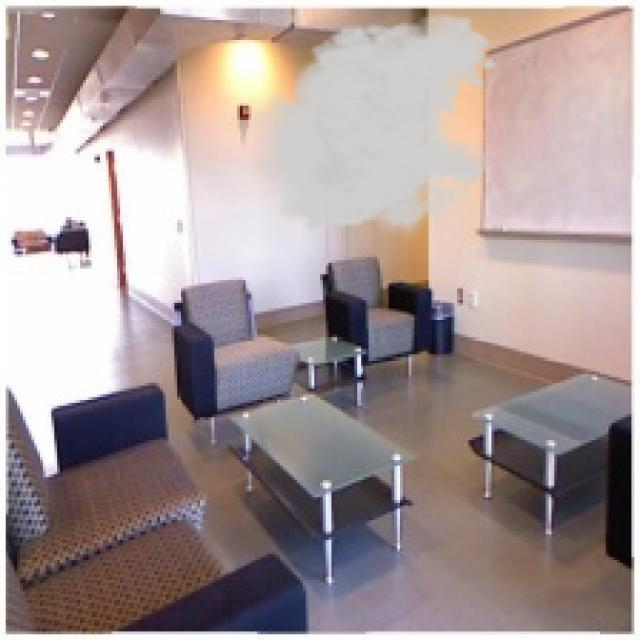Smoke: (243, 11, 500, 246)
